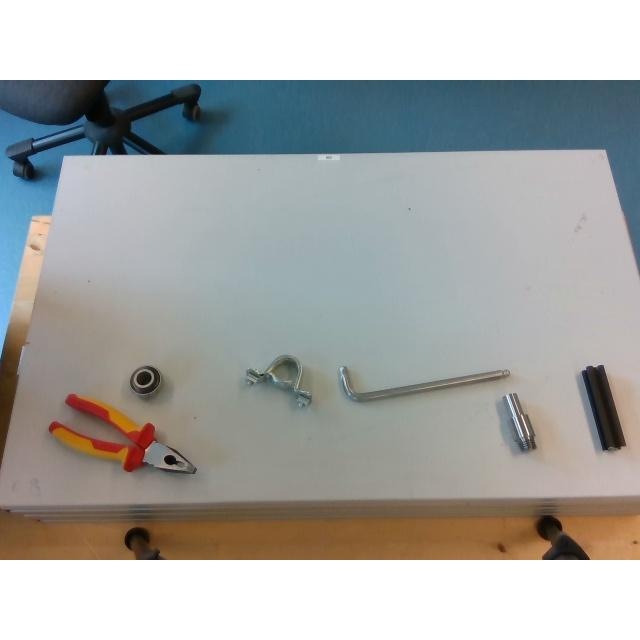AllenKey: (338, 366, 510, 402)
Axis2: (502, 394, 536, 451)
Bearing2: (130, 364, 162, 396)
F20_20_B: (581, 366, 625, 450)
Housing: (246, 354, 310, 406)
